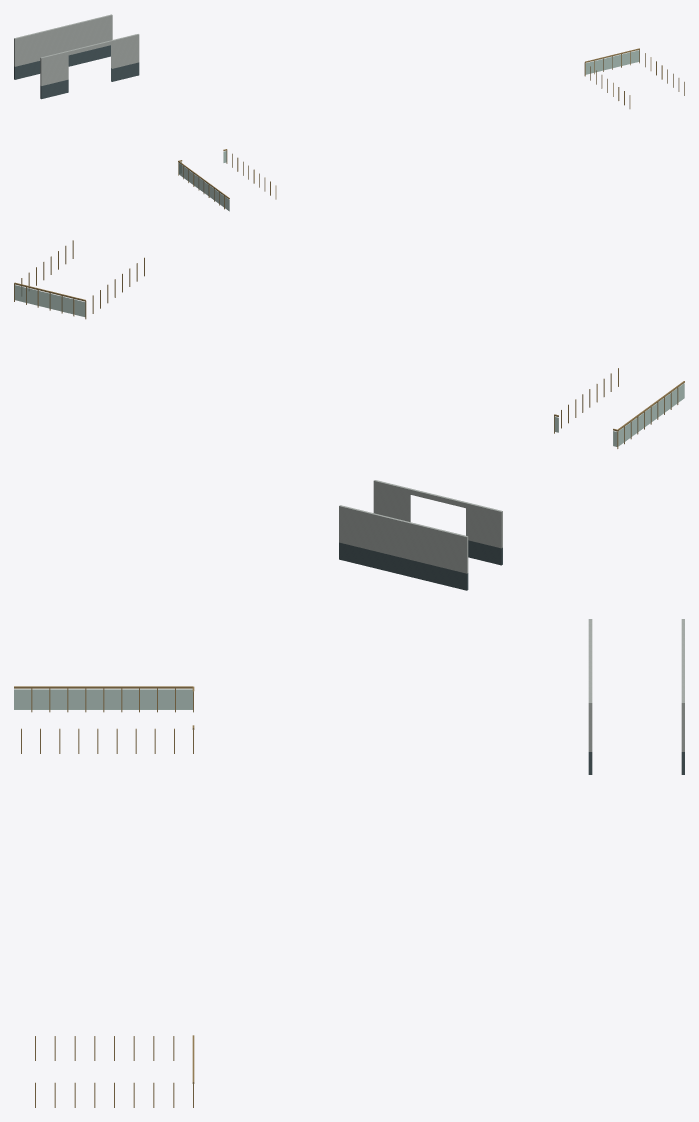
The model's file is TidalD16NamedGuardPatch.glb.
The picture shows the model from 3 angles, top to bottom: view 1: azimuth 30°, elevation 25°; view 2: azimuth 150°, elevation 25°; view 3: azimuth 270°, elevation 25°; orthographic projection. The views are drawn at different scales.
Visible parts, largest first — view 1: screen_wall_staff_white_paint_D16_-6_-63, screen_wall_staff_bluegrey_paint_D16_-6_-63, TG_Batch_199, TG_Batch_197; view 2: screen_wall_staff_white_paint_D16_-6_-63, screen_wall_staff_bluegrey_paint_D16_-6_-63, TG_Batch_199, TG_Batch_197; view 3: TG_Batch_199, TG_Batch_197, screen_wall_staff_white_paint_D16_-6_-63.
Part boxes in pixels (bbox=[...]): screen_wall_staff_white_paint_D16_-6_-63: bbox=[14, 14, 139, 85]; screen_wall_staff_bluegrey_paint_D16_-6_-63: bbox=[14, 45, 139, 99]; TG_Batch_199: bbox=[178, 50, 639, 211]; TG_Batch_197: bbox=[178, 48, 684, 209]; screen_wall_staff_white_paint_D16_-6_-63: bbox=[339, 480, 502, 573]; screen_wall_staff_bluegrey_paint_D16_-6_-63: bbox=[339, 540, 502, 590]; TG_Batch_199: bbox=[14, 285, 684, 446]; TG_Batch_197: bbox=[14, 240, 684, 448]; TG_Batch_199: bbox=[14, 689, 193, 711]; TG_Batch_197: bbox=[14, 686, 194, 1107]; screen_wall_staff_white_paint_D16_-6_-63: bbox=[588, 619, 684, 751].
Size of the model in its own units: 39.75 by 3.2 by 27.04.
Materials: 4 (3 with a texture image).
